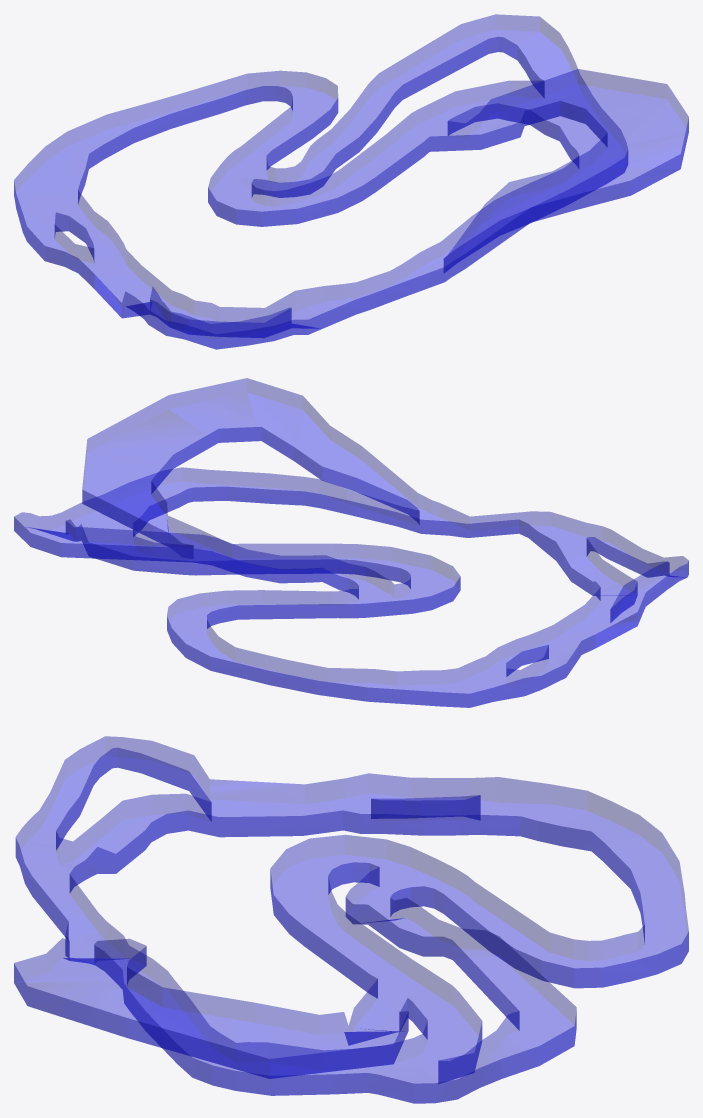
The model's file is track_china_coll_net_01.fbx.
3 renders of one model, top to bottom at view 1: azimuth 30°, elevation 25°; view 2: azimuth 150°, elevation 25°; view 3: azimuth 270°, elevation 25°, orthographic. The views are drawn at different scales.
Parts seen in each view (by area): view 1: track_china_coll_net_01; view 2: track_china_coll_net_01; view 3: track_china_coll_net_01.
Part boxes in pixels (x1,y1,x2,y2): track_china_coll_net_01: (14,14,688,349); track_china_coll_net_01: (14,378,688,707); track_china_coll_net_01: (14,736,688,1103).
Size of the model in its own units: 1527 by 253 by 1171.
